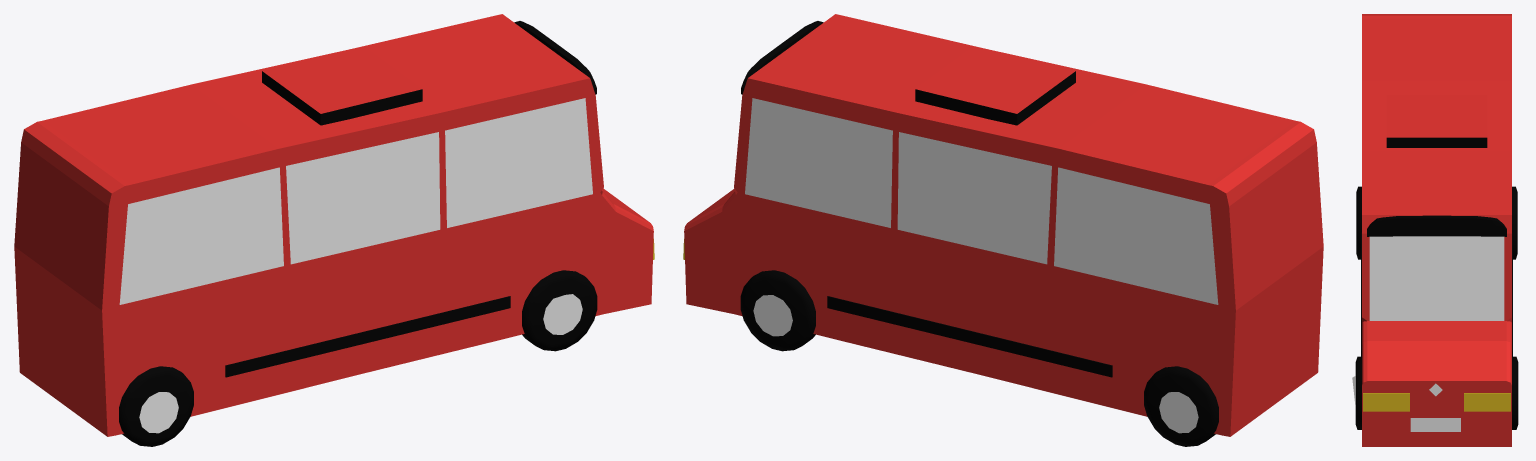
The model's file is Bus Final.fbx.
3 renders of one model, left to right at view 1: azimuth 30°, elevation 25°; view 2: azimuth 150°, elevation 25°; view 3: azimuth 270°, elevation 25°, orthographic. The views are drawn at different scales.
Parts seen in each view (by area): view 1: Bus Final; view 2: Bus Final; view 3: Bus Final.
Boxes of the visible parts, box(x1,y1,x2,y2) form: Bus Final: box(14, 14, 654, 446); Bus Final: box(683, 14, 1323, 446); Bus Final: box(1352, 14, 1518, 446).
Bounding box in the file's own units: 389 × 187 × 120.
